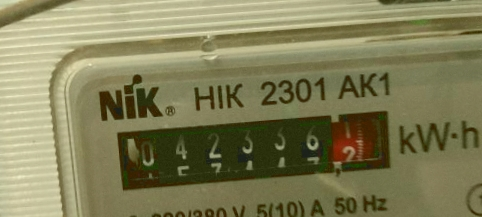0: (137, 138, 155, 167)
1: (339, 117, 353, 140)
2: (205, 129, 223, 159), (339, 143, 357, 162)
3: (268, 121, 287, 152), (237, 126, 254, 155)
4: (171, 131, 190, 161)
6: (302, 120, 322, 152)
screen: (104, 96, 405, 200)
